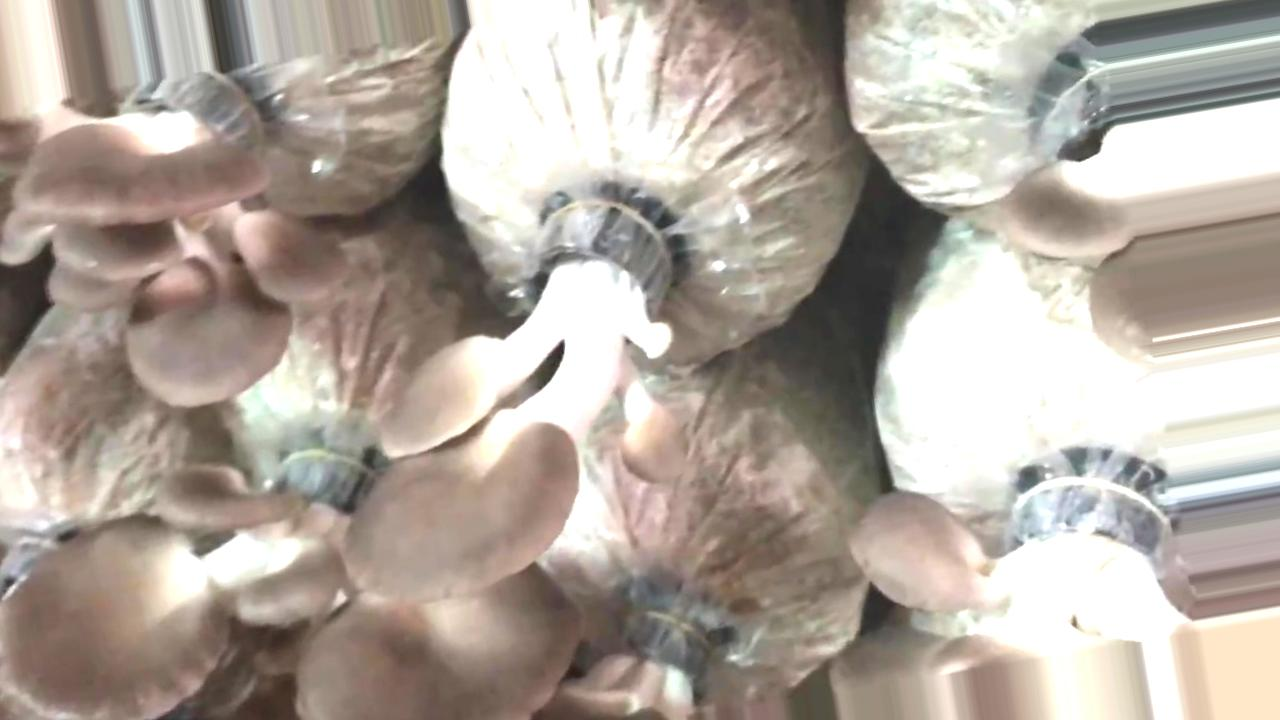nam: (3, 434, 577, 720), (350, 202, 695, 599), (17, 70, 338, 407), (832, 470, 1191, 720), (998, 95, 1280, 359)
